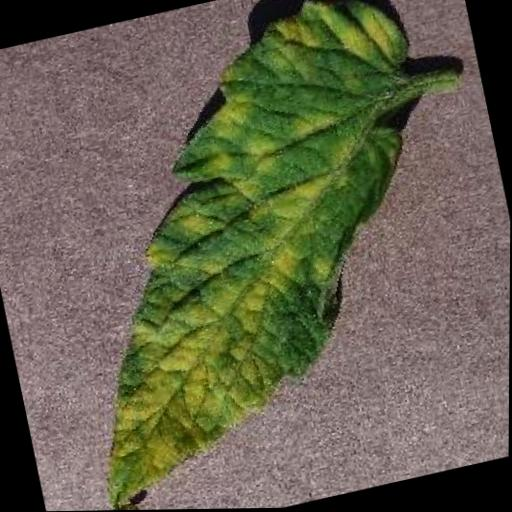Leaf Mold: (17, 0, 490, 512)
